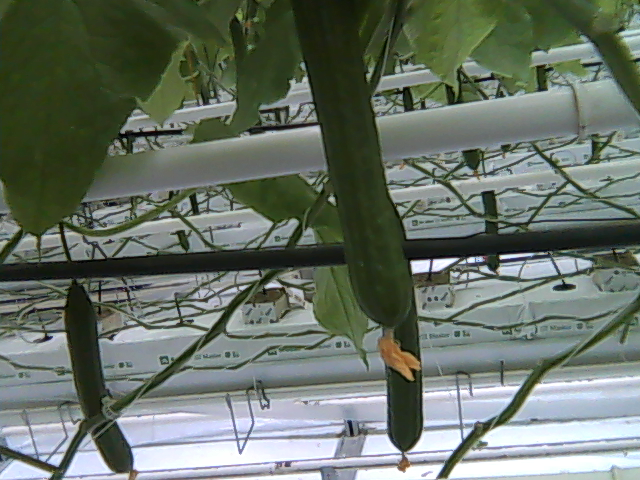concombre: (290, 2, 437, 383)
